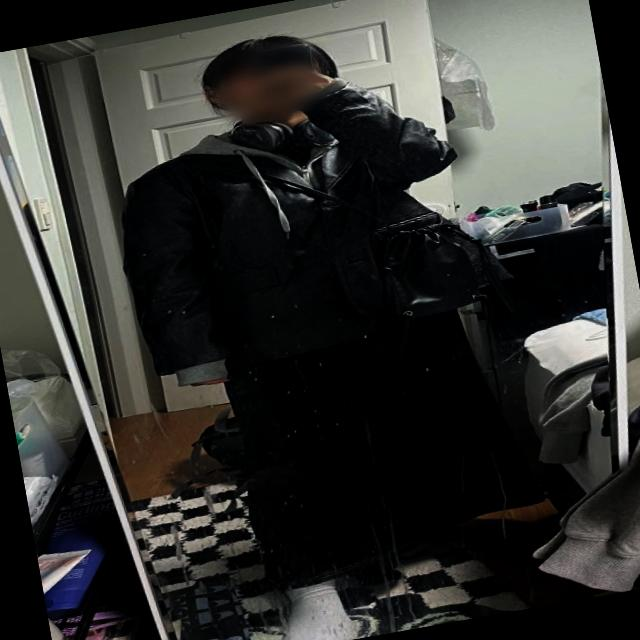blazer: (100, 66, 486, 384)
skirt: (222, 276, 550, 594)
